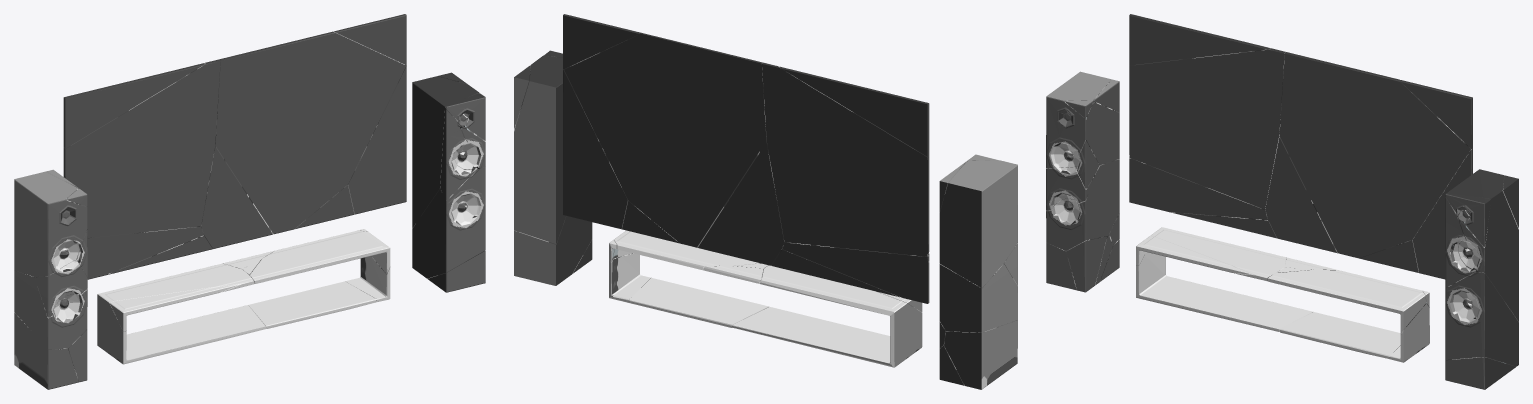
The model's file is Sound System Smashed.fbx.
The picture shows the model from 3 angles, left to right: view 1: azimuth 30°, elevation 25°; view 2: azimuth 150°, elevation 25°; view 3: azimuth 330°, elevation 25°; orthographic projection. The views are drawn at different scales.
Parts seen in each view (by area): view 1: tv_wall_001_cell.021, tv_wall_001_cell, tv_wall_001_cell.027, tv_wall_001_cell.005, tv_wall_001_cell.033, tv_wall_001_cell.012, tv_wall_001_cell.026, tv_wall_001_cell.020, tv_wall_001_cell.018, tv_wall_001_cell.025, tv_wall_001_cell.023, tv_wall_001_cell.013 (+12 smaller); view 2: tv_wall_001_cell.021, tv_wall_001_cell, tv_wall_001_cell.027, tv_wall_001_cell.005, tv_wall_001_cell.033, tv_wall_001_cell.026, tv_wall_001_cell.018, tv_wall_001_cell.013, tv_wall_001_cell.020, tv_wall_001_cell.023, tv_wall_001_cell.012, tv_wall_001_cell.011 (+9 smaller); view 3: tv_wall_001_cell.021, tv_wall_001_cell, tv_wall_001_cell.027, tv_wall_001_cell.012, tv_wall_001_cell.005, tv_wall_001_cell.033, tv_wall_001_cell.013, tv_wall_001_cell.025, tv_wall_001_cell.023, tv_wall_001_cell.018, tv_wall_001_cell.020, tv_wall_001_cell.030 (+15 smaller).
Part boxes in pixels (x1=…): tv_wall_001_cell.021: x1=215, y1=31, x2=405, y2=233; tv_wall_001_cell: x1=63, y1=59, x2=220, y2=237; tv_wall_001_cell.027: x1=97, y1=263, x2=266, y2=364; tv_wall_001_cell.005: x1=14, y1=171, x2=87, y2=276; tv_wall_001_cell.033: x1=412, y1=76, x2=485, y2=228; tv_wall_001_cell.012: x1=412, y1=167, x2=485, y2=278; tv_wall_001_cell.026: x1=347, y1=65, x2=406, y2=214; tv_wall_001_cell.020: x1=63, y1=63, x2=204, y2=148; tv_wall_001_cell.018: x1=200, y1=144, x2=274, y2=248; tv_wall_001_cell.025: x1=249, y1=230, x2=390, y2=283; tv_wall_001_cell.023: x1=14, y1=259, x2=87, y2=349; tv_wall_001_cell.013: x1=80, y1=226, x2=203, y2=279; tv_wall_001_cell.021: x1=564, y1=32, x2=768, y2=247; tv_wall_001_cell: x1=762, y1=62, x2=929, y2=256; tv_wall_001_cell.027: x1=732, y1=265, x2=922, y2=367; tv_wall_001_cell.005: x1=939, y1=160, x2=1017, y2=287; tv_wall_001_cell.033: x1=514, y1=55, x2=565, y2=243; tv_wall_001_cell.026: x1=563, y1=69, x2=627, y2=229; tv_wall_001_cell.018: x1=698, y1=143, x2=784, y2=265; tv_wall_001_cell.013: x1=782, y1=242, x2=929, y2=303; tv_wall_001_cell.020: x1=780, y1=66, x2=929, y2=156; tv_wall_001_cell.023: x1=939, y1=264, x2=1017, y2=332; tv_wall_001_cell.012: x1=514, y1=216, x2=592, y2=285; tv_wall_001_cell.011: x1=944, y1=320, x2=1017, y2=389; tv_wall_001_cell.021: x1=1279, y1=52, x2=1470, y2=258; tv_wall_001_cell: x1=1129, y1=48, x2=1285, y2=209; tv_wall_001_cell.027: x1=1136, y1=227, x2=1313, y2=331; tv_wall_001_cell.012: x1=1445, y1=271, x2=1518, y2=366; tv_wall_001_cell.005: x1=1046, y1=71, x2=1119, y2=168; tv_wall_001_cell.033: x1=1446, y1=169, x2=1518, y2=321; tv_wall_001_cell.013: x1=1129, y1=158, x2=1267, y2=219; tv_wall_001_cell.025: x1=1267, y1=269, x2=1426, y2=335; tv_wall_001_cell.023: x1=1046, y1=159, x2=1119, y2=250; tv_wall_001_cell.018: x1=1265, y1=136, x2=1338, y2=253; tv_wall_001_cell.020: x1=1129, y1=14, x2=1269, y2=65; tv_wall_001_cell.030: x1=1279, y1=312, x2=1400, y2=358.
Bounding box in the file's own units: 304 × 169 × 41.86.
Materials: 1 (1 with a texture image).
